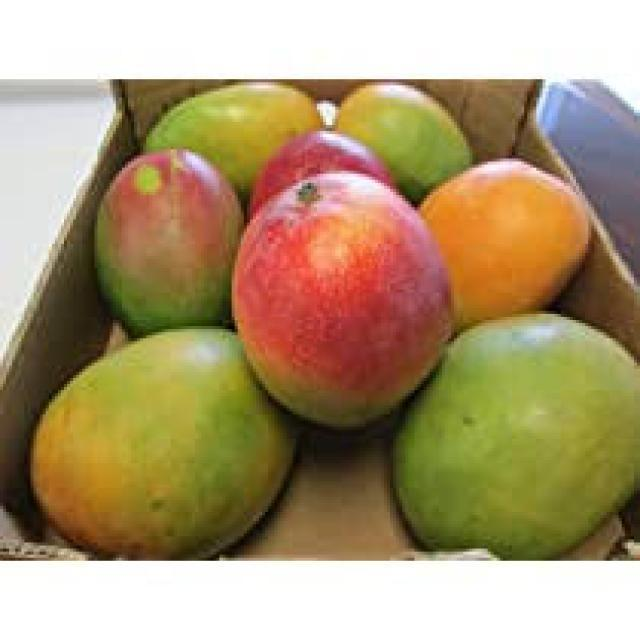Mango: (27, 323, 296, 558), (390, 308, 637, 558), (234, 177, 450, 419), (418, 155, 594, 326), (90, 149, 243, 337), (141, 82, 327, 197), (333, 84, 492, 185)
